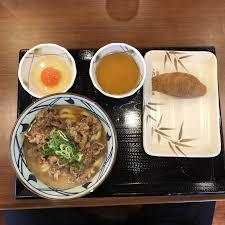niku: (5, 89, 125, 211)
